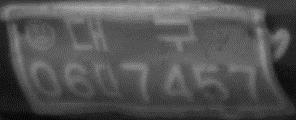0: (28, 59, 64, 101)
4: (162, 62, 198, 105)
5: (191, 63, 231, 104)
6: (64, 60, 95, 100)
7: (120, 60, 154, 104), (228, 61, 260, 105)
다: (93, 62, 126, 101)
대구_D: (65, 16, 200, 57)
영: (23, 18, 56, 52)
